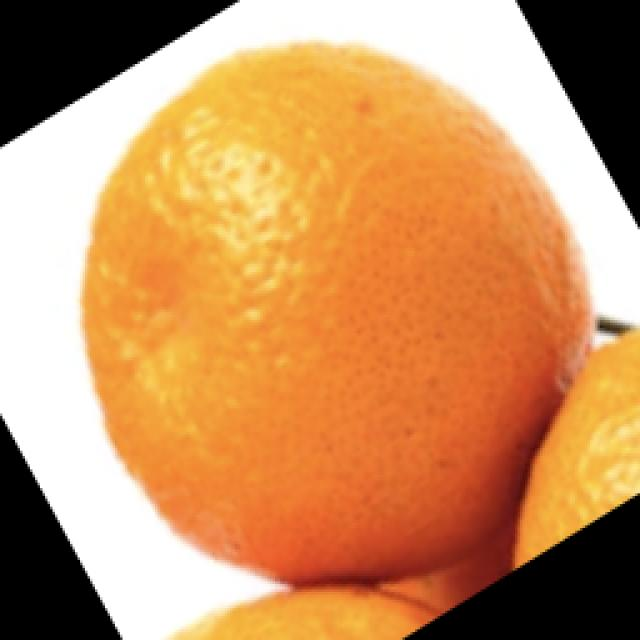fresh: (72, 29, 638, 628)
